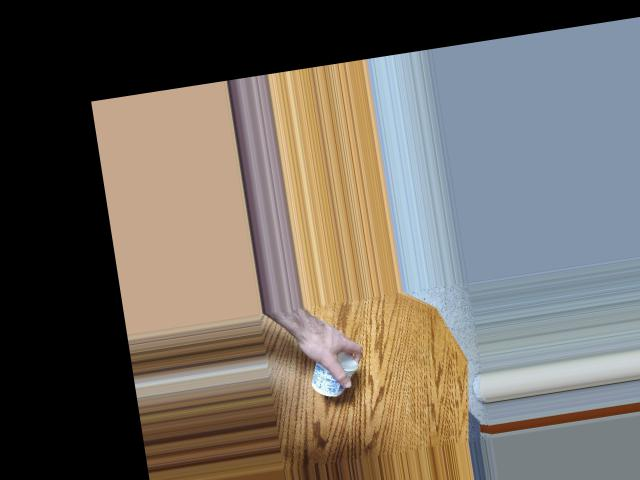cotage: (301, 342, 361, 395)
